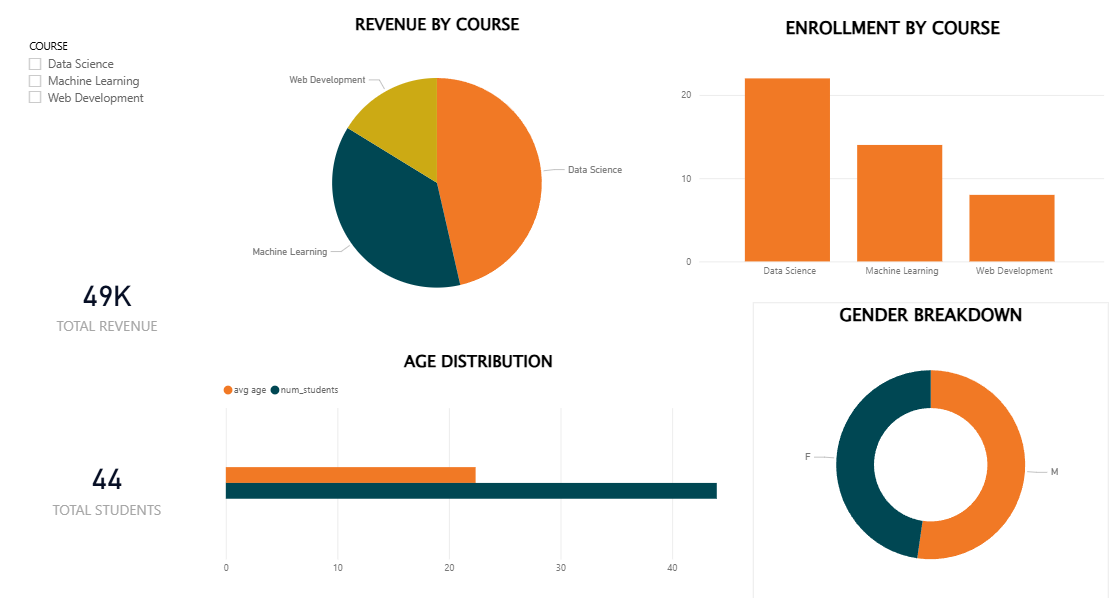

What the dashboard file says about the page in this screenshot:
{"tool":"powerbi","page":{"name":"Page 1","canvas":[1280,720],"ordinal":0},"visuals":[{"type":"card","fields":{"Values":["Count(Cleaned Dataset.student_id)"]},"box":[22.9,504.3,201.4,170],"z":0},{"type":"card","fields":{"Values":["Sum(Cleaned Dataset.total_payments)"]},"box":[22.9,285.7,201.4,187.1],"z":1000},{"type":"clusteredColumnChart","title":"ENROLLMENT BY COURSE","fields":{"Category":["Cleaned Dataset.course"],"Y":["Count(Cleaned Dataset.student_id)"]},"box":[773.9,49.4,494,310.1],"z":2000},{"type":"donutChart","title":"GENDER BREAKDOWN","fields":{"Category":["Cleaned Dataset.gender"],"Y":["Count(Cleaned Dataset.student_id)"]},"box":[861.4,378.6,407.1,341.4],"z":3000},{"type":"clusteredBarChart","title":"AGE DISTRIBUTION","fields":{"Y":["Avg(Cleaned Dataset.age)","Count(Cleaned Dataset.student_id)"]},"box":[251.4,431.4,592.9,267.1],"z":4000},{"type":"pieChart","title":"REVENUE BY COURSE","fields":{"Category":["Cleaned Dataset.course"],"Y":["Sum(Cleaned Dataset.total_payments)"]},"box":[251.4,47.1,498.6,361.4],"z":5000},{"type":"slicer","fields":{"Values":["Cleaned Dataset.course"]},"box":[21.4,72.9,201.4,174.3],"z":6000}]}

Visuals, with their boxes on the page's 1280x720 design canvas (x1, y1, x2, y2). These are canvas units, not pixel positions in the 1116x598 screenshot, which may show the page scaled, cropped or inside an application window:
card - Count(Cleaned Dataset.student_id): {"x1": 23, "y1": 504, "x2": 224, "y2": 674}
card - Sum(Cleaned Dataset.total_payments): {"x1": 23, "y1": 286, "x2": 224, "y2": 473}
"ENROLLMENT BY COURSE" clusteredColumnChart: {"x1": 774, "y1": 49, "x2": 1268, "y2": 360}
"GENDER BREAKDOWN" donutChart: {"x1": 861, "y1": 379, "x2": 1268, "y2": 720}
"AGE DISTRIBUTION" clusteredBarChart: {"x1": 251, "y1": 431, "x2": 844, "y2": 698}
"REVENUE BY COURSE" pieChart: {"x1": 251, "y1": 47, "x2": 750, "y2": 408}
slicer - Cleaned Dataset.course: {"x1": 21, "y1": 73, "x2": 223, "y2": 247}
